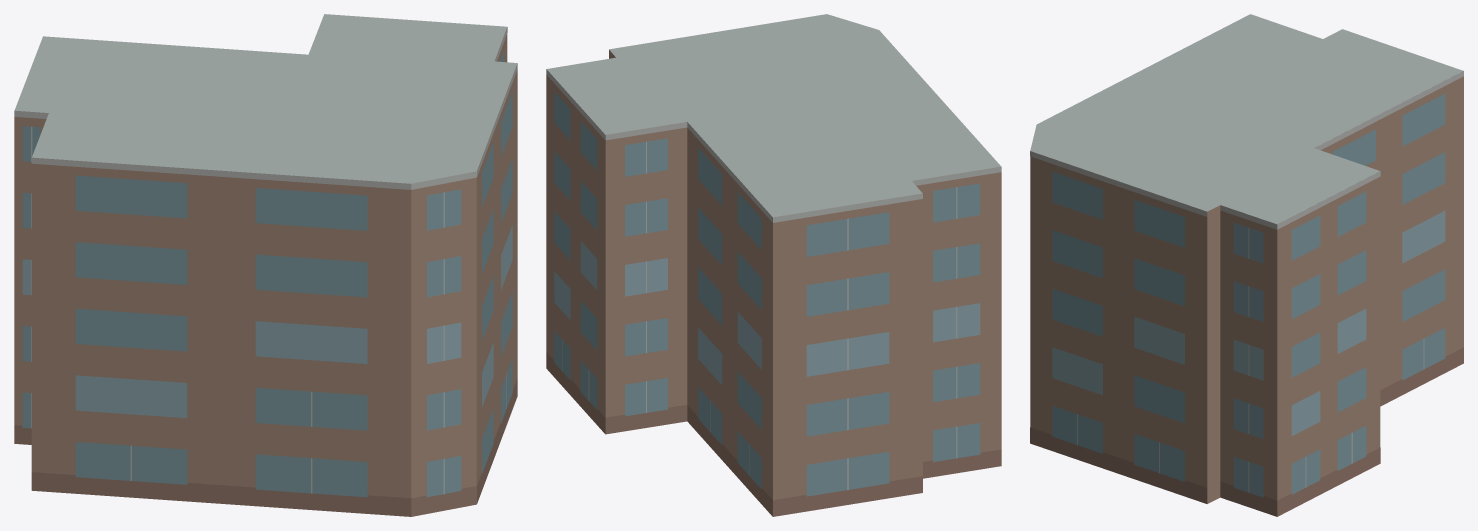
The model's file is survey-upis-32985091.glb.
3 renders of one model, left to right at view 1: azimuth 30°, elevation 25°; view 2: azimuth 150°, elevation 25°; view 3: azimuth 270°, elevation 25°, orthographic. The views are drawn at different scales.
Parts seen in each view (by area): view 1: survey-upis-32985091.tmp; view 2: survey-upis-32985091.tmp; view 3: survey-upis-32985091.tmp.
Boxes of the visible parts, box(x1,y1,x2,y2) form: survey-upis-32985091.tmp: box(14, 14, 517, 516); survey-upis-32985091.tmp: box(546, 14, 1001, 516); survey-upis-32985091.tmp: box(1030, 14, 1463, 516).
Size of the model in its own units: 20.52 by 13.3 by 17.88.
